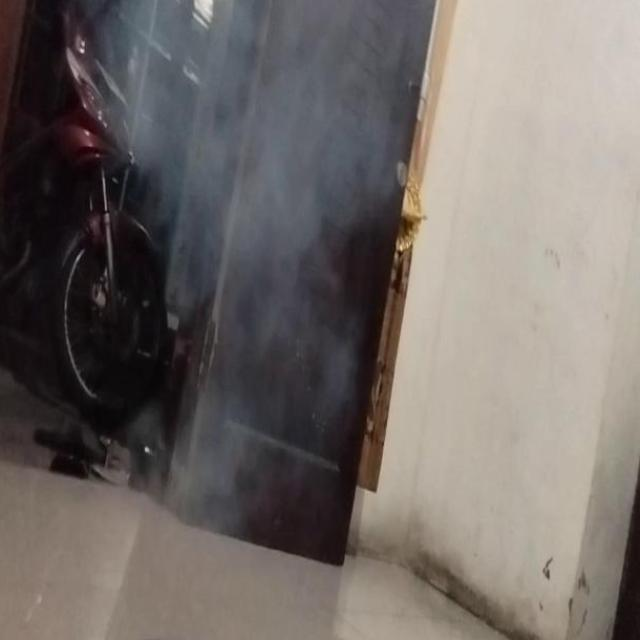fire: (108, 0, 427, 465)
